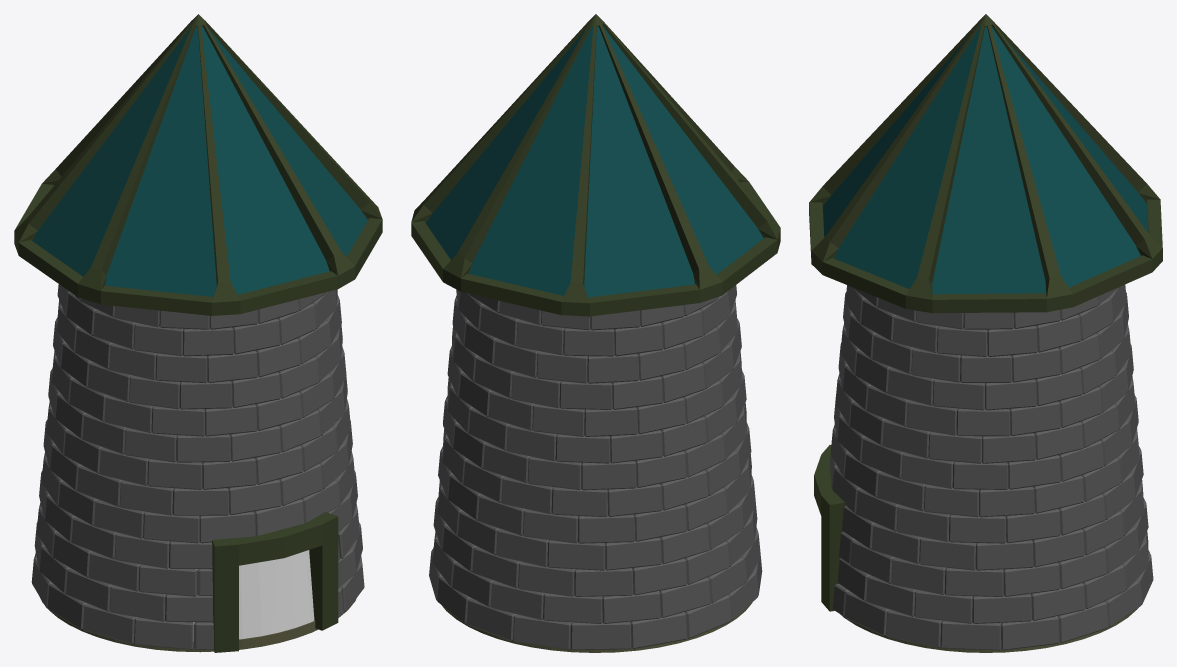
The model's file is tower.fbx.
3 views of the same model, side by side, from view 1: azimuth 30°, elevation 25°; view 2: azimuth 150°, elevation 25°; view 3: azimuth 270°, elevation 25° (orthographic).
Visible parts, largest first — view 1: TowerUp, RoofUp, door, tower, BuildingTrigger, floor; view 2: TowerUp, RoofUp, tower, floor; view 3: TowerUp, RoofUp, tower, door, floor.
Part boxes in pixels (x1=…): TowerUp: x1=34, y1=284, x2=362, y2=622; RoofUp: x1=14, y1=14, x2=382, y2=315; door: x1=212, y1=512, x2=338, y2=652; tower: x1=31, y1=552, x2=364, y2=649; BuildingTrigger: x1=136, y1=550, x2=314, y2=641; floor: x1=40, y1=598, x2=356, y2=652; TowerUp: x1=432, y1=285, x2=760, y2=623; RoofUp: x1=411, y1=14, x2=780, y2=316; tower: x1=429, y1=548, x2=762, y2=649; floor: x1=442, y1=602, x2=752, y2=652; TowerUp: x1=829, y1=284, x2=1148, y2=623; RoofUp: x1=809, y1=14, x2=1162, y2=313; tower: x1=832, y1=550, x2=1153, y2=650; door: x1=814, y1=445, x2=845, y2=611; floor: x1=840, y1=608, x2=1137, y2=652.
Bounding box in the file's own units: 2.34 × 4.17 × 2.34.
